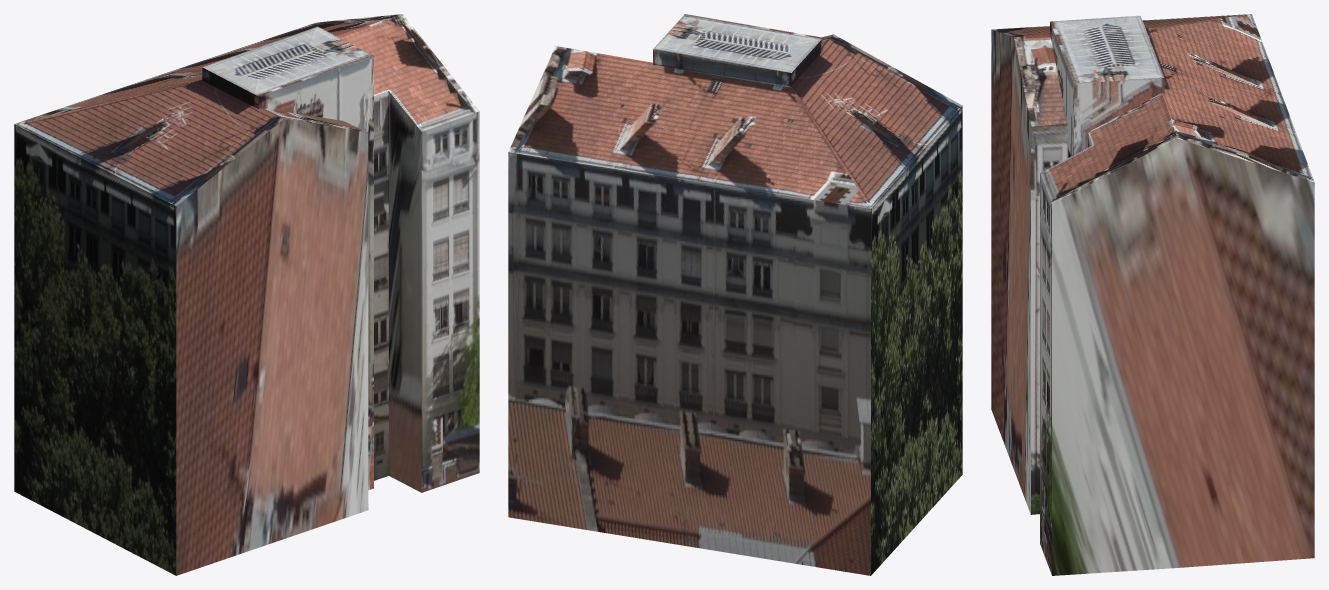
3 renders of one model, left to right at view 1: azimuth 30°, elevation 25°; view 2: azimuth 150°, elevation 25°; view 3: azimuth 270°, elevation 25°, orthographic. The views are drawn at different scales.
Parts seen in each view (by area): view 1: Z_UP; view 2: Z_UP; view 3: Z_UP.
Part boxes in pixels (<box>): Z_UP: <box>14,14,479,575</box>; Z_UP: <box>508,14,962,575</box>; Z_UP: <box>991,14,1314,575</box>.
Size of the model in its own units: 24.91 by 27.99 by 18.47.
2 materials, 1 textured.
